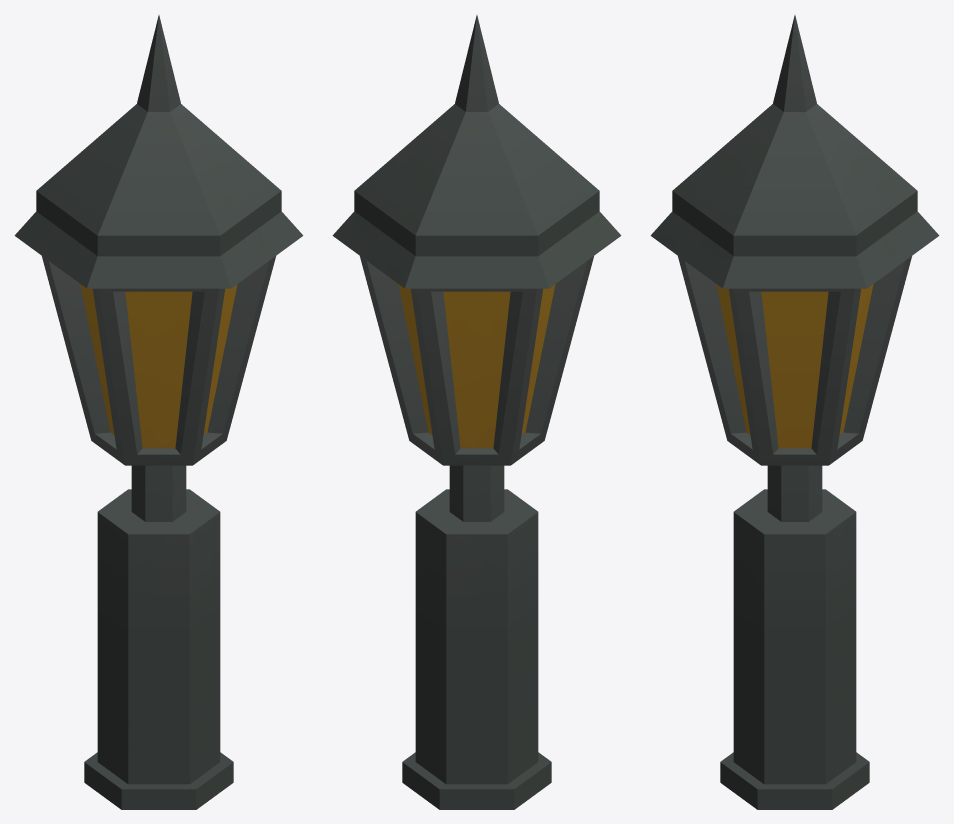
The model's file is Street_lamp_05.fbx.
3 views of the same model, side by side, from view 1: azimuth 30°, elevation 25°; view 2: azimuth 150°, elevation 25°; view 3: azimuth 270°, elevation 25° (orthographic).
Visible parts, largest first — view 1: Cylinder.002; view 2: Cylinder.002; view 3: Cylinder.002.
Part boxes in pixels (box(x1,y1,x2,y2)): Cylinder.002: box(14, 15, 303, 809); Cylinder.002: box(332, 15, 621, 809); Cylinder.002: box(650, 15, 939, 809).
Bounding box in the file's own units: 0.4484 × 1.52 × 0.5178.
